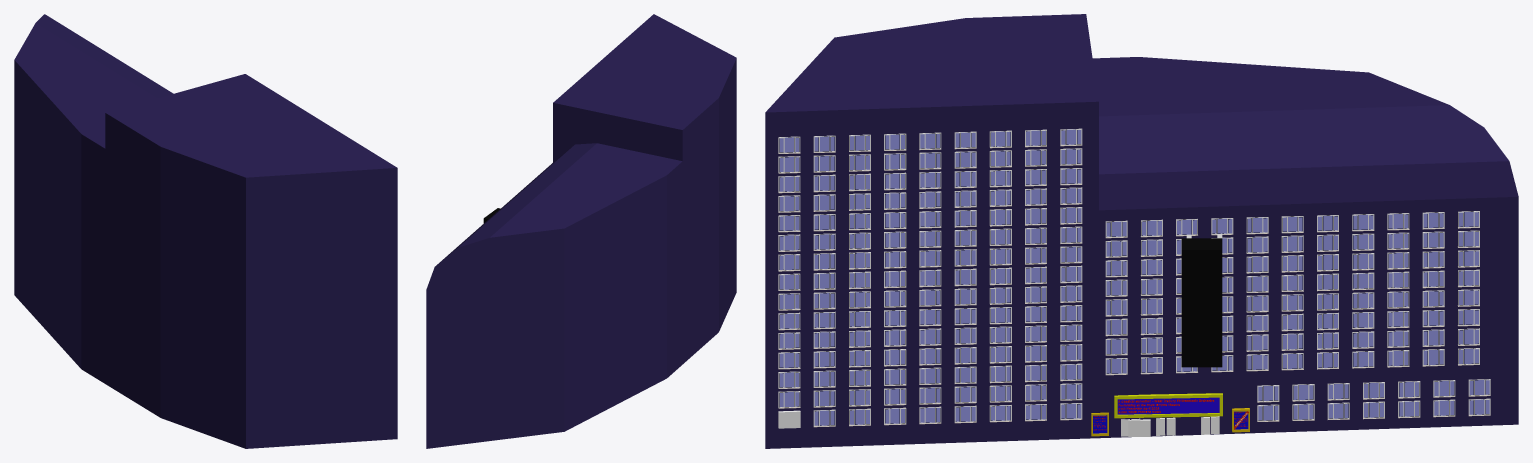
Rendered from RoyalEmpireTheatre.fbx.
The picture shows the model from 3 angles, left to right: view 1: azimuth 30°, elevation 25°; view 2: azimuth 150°, elevation 25°; view 3: azimuth 270°, elevation 25°; orthographic projection. The views are drawn at different scales.
Visible parts, largest first — view 1: SaintMary'sTheatre; view 2: SaintMary'sTheatre; view 3: SaintMary'sTheatre, Window, Window.002, Window.001, TheatreSign, MainSign.
Part boxes in pixels (left/top/right/bottom): SaintMary'sTheatre: left=14, top=14, right=397, bottom=448; SaintMary'sTheatre: left=426, top=14, right=736, bottom=448; SaintMary'sTheatre: left=765, top=14, right=1518, bottom=448; Window: left=778, top=128, right=1082, bottom=427; Window.002: left=1105, top=211, right=1479, bottom=375; Window.001: left=1257, top=379, right=1490, bottom=421; TheatreSign: left=1181, top=238, right=1222, bottom=367; MainSign: left=1114, top=393, right=1222, bottom=418.
Size of the model in its own units: 2894 by 4207 by 8536.
